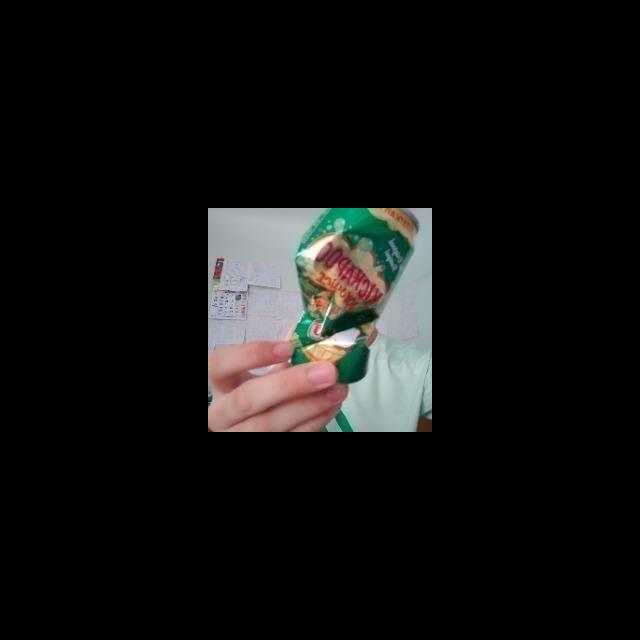metal: (289, 208, 424, 393)
